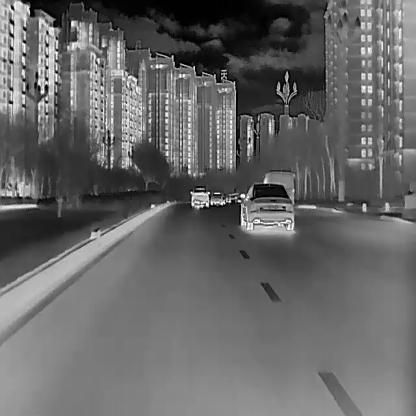car: (240, 182, 295, 231), (262, 169, 294, 206), (189, 184, 210, 208), (210, 190, 222, 205)
